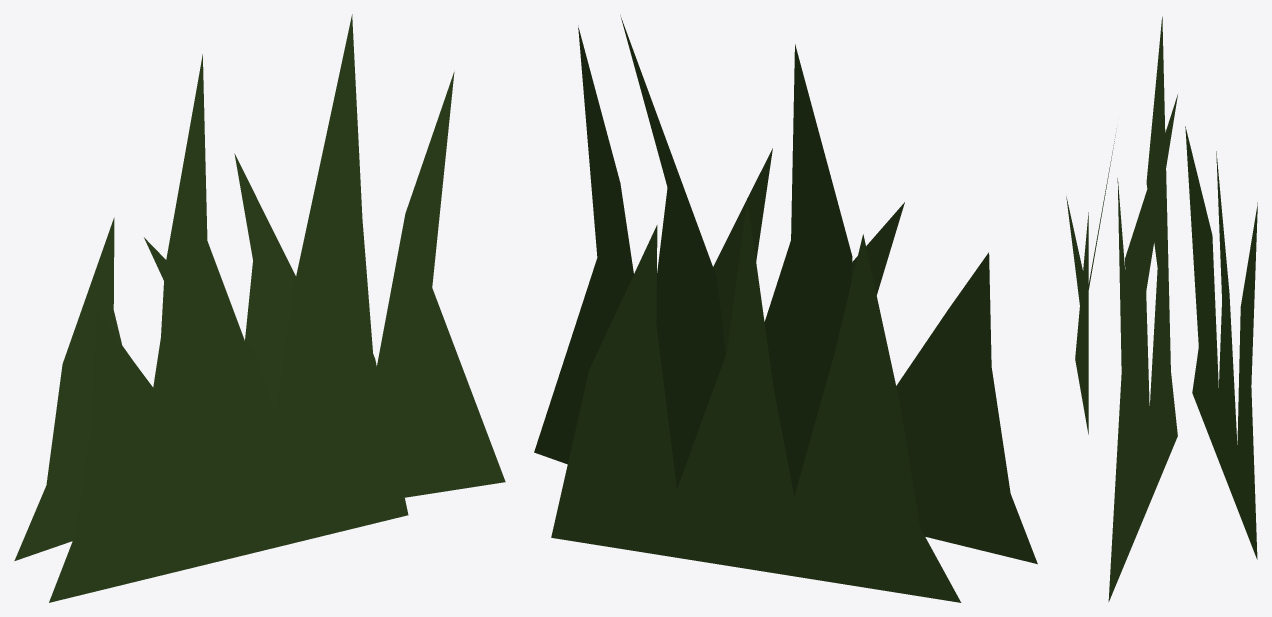
Rendered from Grass.fbx.
3 views of the same model, side by side, from view 1: azimuth 30°, elevation 25°; view 2: azimuth 150°, elevation 25°; view 3: azimuth 270°, elevation 25° (orthographic). The views are drawn at different scales.
Visible parts, largest first — view 1: Plane; view 2: Plane; view 3: Plane.
Part boxes in pixels (x1,y1,x2,y2): Plane: (14, 14, 505, 602); Plane: (534, 15, 1037, 602); Plane: (1066, 16, 1257, 601).
Bounding box in the file's own units: 321 × 313 × 118.
